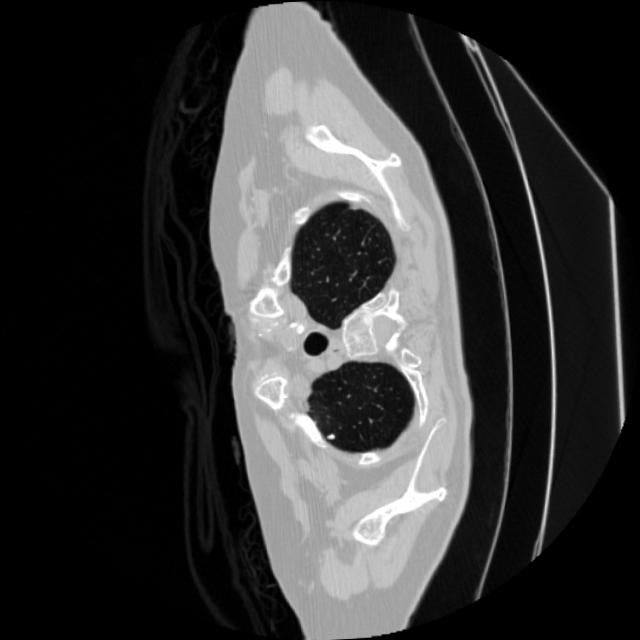nodule: (320, 425, 340, 444)
